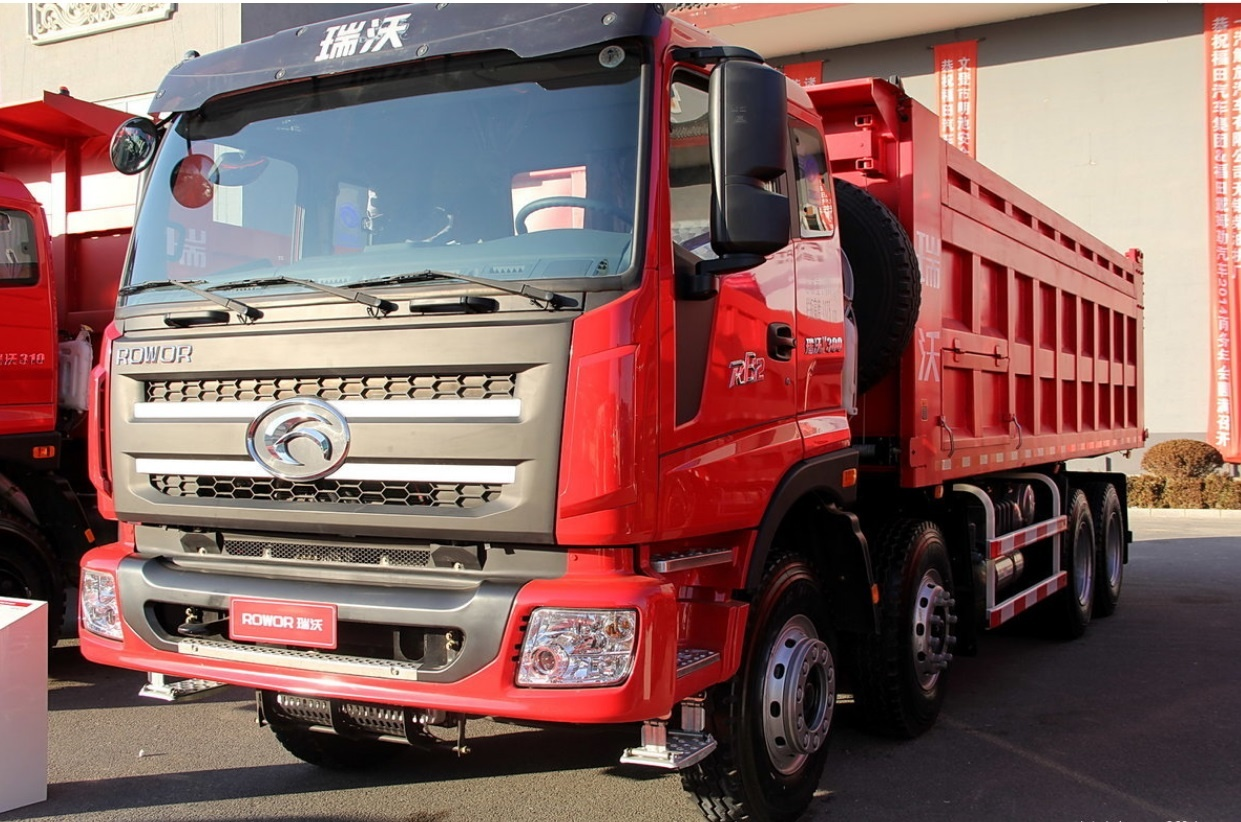heavy truck: (99, 24, 1142, 777)
